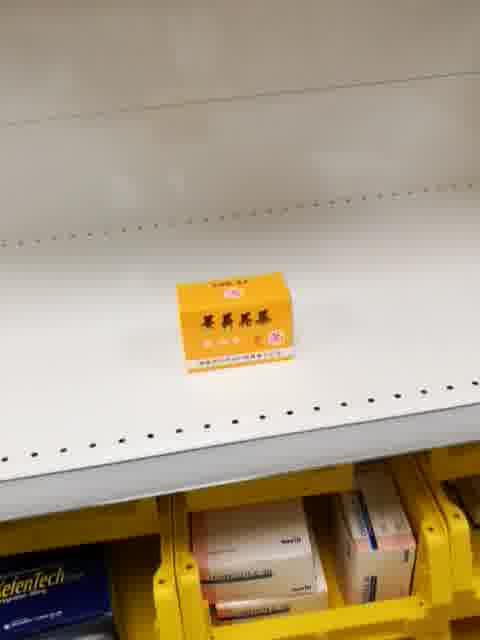jasminetea: (175, 270, 296, 375)
